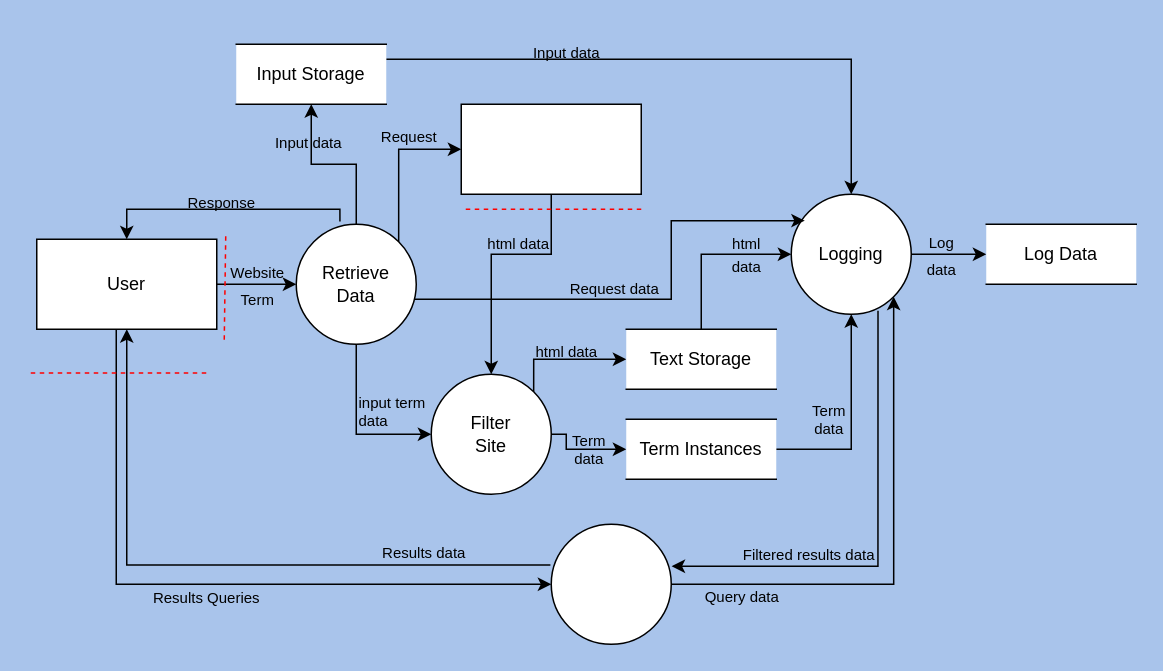
Some shapes in this 1163 by 671 pixel diagram are drawn without their labels. Here are the shapes that lost their labels. From the top down, the box of each, then its label:
(460, 103, 641, 194): Website
(550, 523, 671, 644): Dashboard
